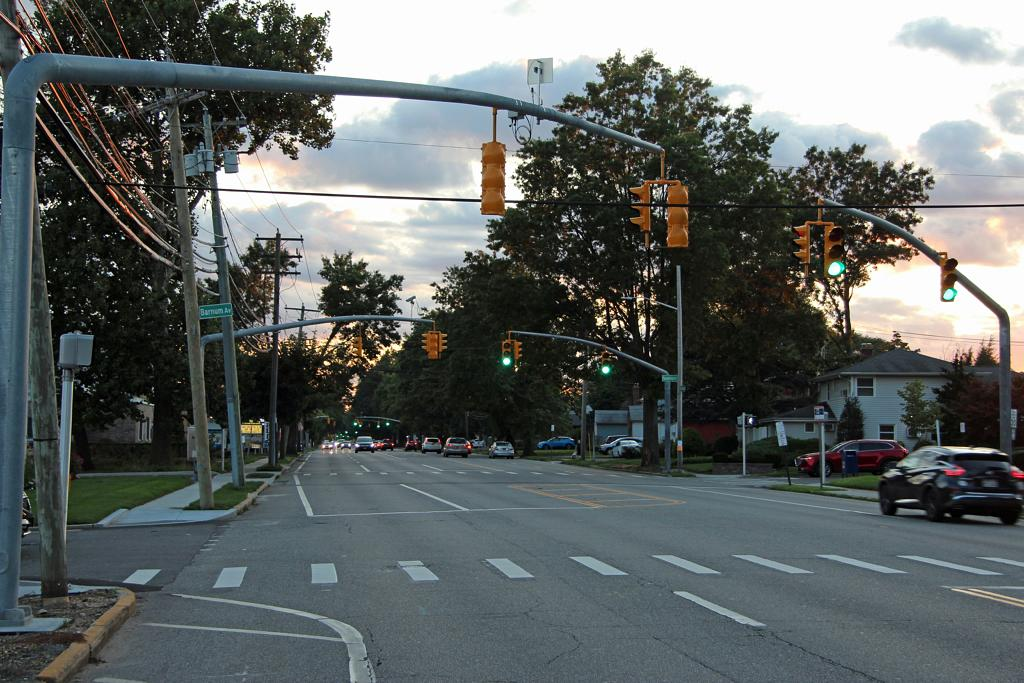car: (873, 434, 1024, 527)
traffic light: (470, 125, 522, 223), (657, 173, 700, 257), (814, 220, 859, 292), (345, 327, 387, 388), (490, 328, 538, 381), (624, 170, 659, 241), (927, 250, 968, 309), (784, 216, 817, 280), (409, 325, 460, 363)
traffic sign: (793, 422, 913, 482), (195, 293, 249, 333), (418, 432, 453, 457), (437, 433, 473, 457), (484, 436, 521, 459), (401, 434, 426, 457), (355, 434, 379, 452)
